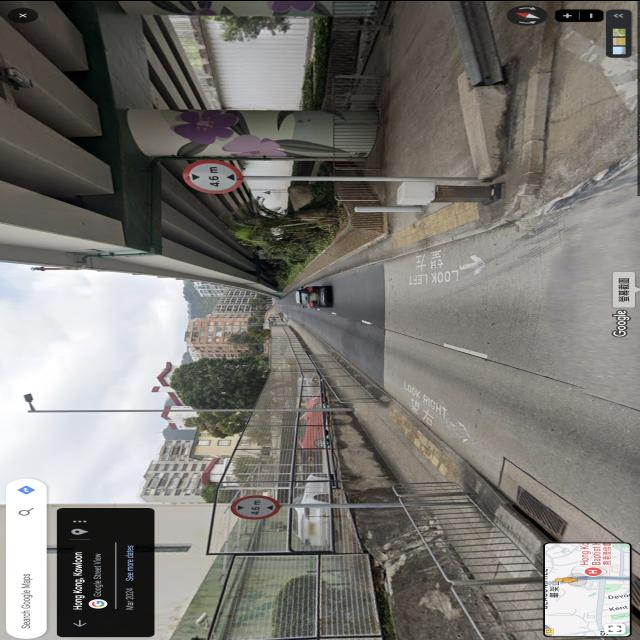Order-Sign: (182, 160, 238, 192), (232, 494, 276, 518)
